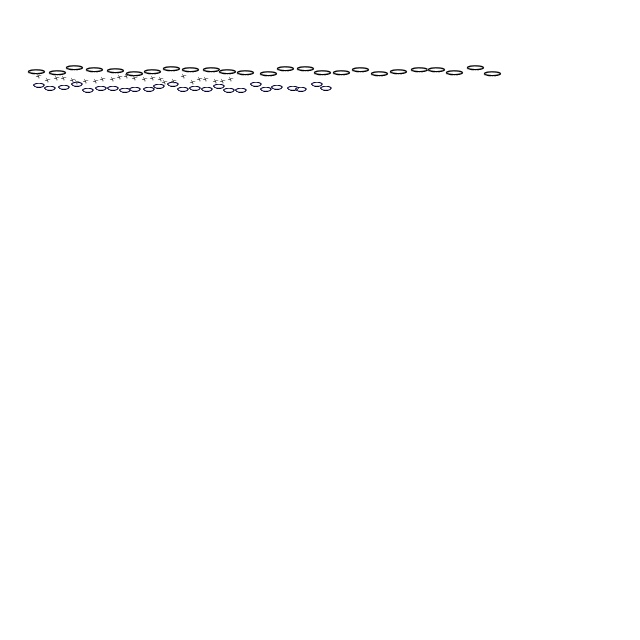chain: (26, 68, 48, 76), (64, 64, 86, 72), (84, 66, 106, 74), (124, 70, 146, 78), (142, 68, 164, 76), (180, 66, 202, 74), (258, 70, 280, 78), (312, 69, 334, 77), (350, 66, 372, 74), (388, 68, 410, 76), (426, 66, 448, 74), (444, 69, 466, 77), (482, 70, 504, 78), (48, 69, 68, 77), (106, 67, 126, 75), (162, 65, 182, 73), (202, 66, 222, 74), (218, 68, 238, 76), (236, 69, 256, 77), (276, 65, 296, 73), (296, 65, 316, 73), (332, 69, 352, 77), (370, 70, 390, 78), (410, 66, 430, 74), (466, 64, 486, 72), (32, 80, 46, 90), (43, 83, 57, 93), (57, 82, 71, 92), (70, 79, 84, 89), (81, 85, 95, 95), (94, 83, 108, 93), (106, 83, 120, 93), (118, 85, 132, 95), (128, 84, 142, 94), (142, 84, 156, 94), (152, 81, 166, 91), (166, 79, 180, 89), (176, 84, 190, 94), (188, 83, 202, 93), (200, 84, 214, 94), (212, 81, 226, 91), (222, 85, 236, 95), (234, 85, 248, 95), (249, 79, 263, 89), (259, 84, 273, 94), (270, 82, 284, 92), (286, 83, 300, 93), (294, 84, 308, 94), (310, 79, 324, 89), (319, 83, 333, 93)
double: (44, 77, 52, 83), (60, 75, 68, 81), (82, 78, 90, 84), (92, 78, 100, 84), (116, 74, 124, 80), (170, 78, 178, 84), (180, 73, 188, 79), (196, 76, 204, 82), (202, 76, 210, 82), (212, 78, 220, 84), (36, 73, 42, 79), (54, 75, 60, 81), (70, 77, 76, 83), (74, 79, 80, 85), (100, 76, 106, 82), (110, 76, 116, 82), (124, 73, 130, 79), (132, 75, 138, 81), (142, 76, 148, 82), (150, 75, 156, 81), (158, 76, 164, 82), (162, 79, 168, 85), (190, 79, 196, 85), (220, 78, 226, 84), (228, 76, 234, 82)
